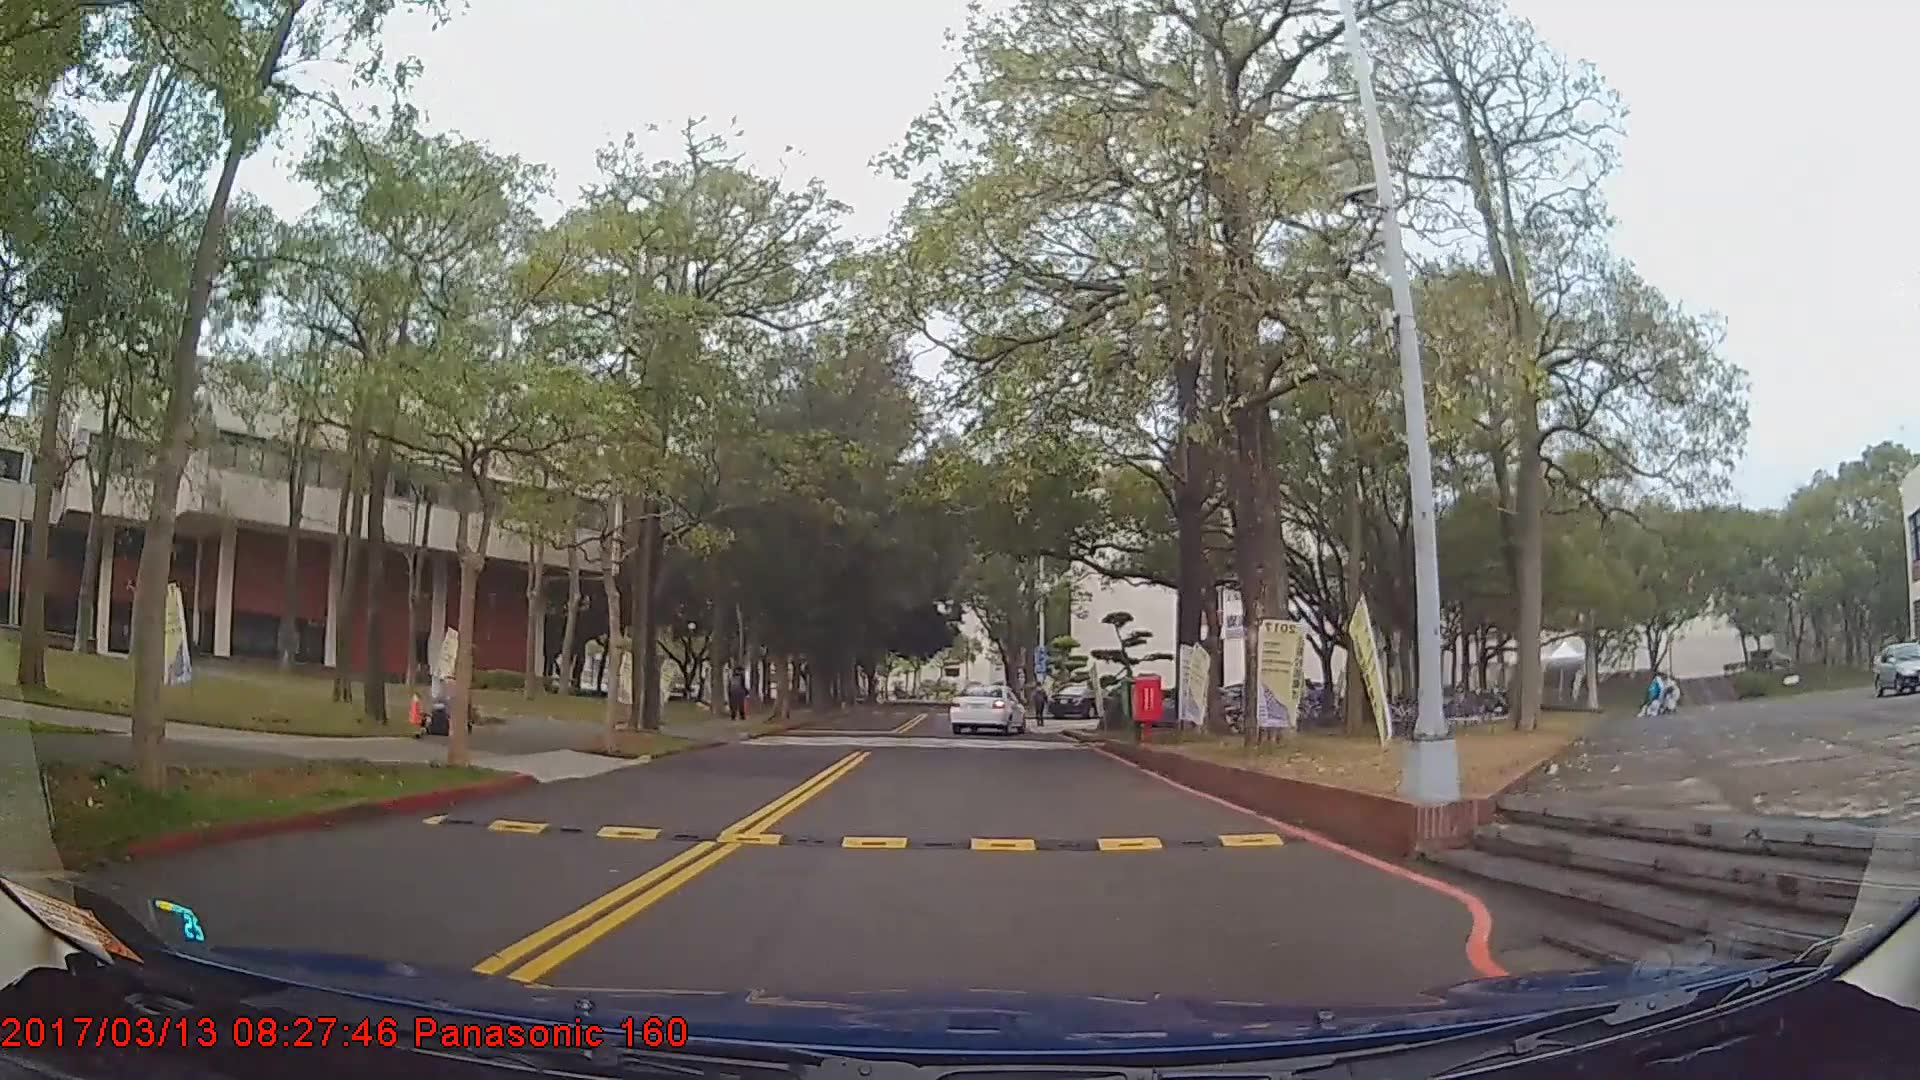pedestrian: (727, 666, 751, 725)
vehicle: (948, 684, 1027, 736), (1868, 641, 1919, 702), (1050, 683, 1107, 718)
